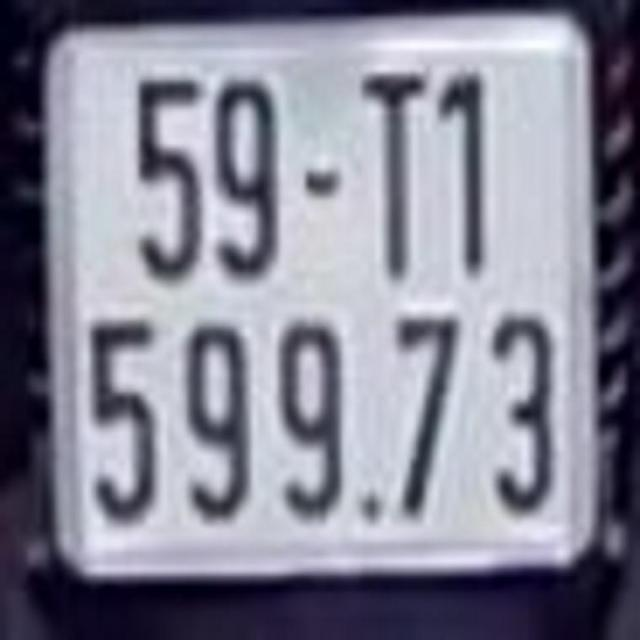1: (440, 63, 490, 276)
3: (488, 306, 558, 520)
5: (88, 321, 162, 520), (135, 72, 205, 282)
7: (391, 309, 464, 516)
9: (182, 320, 260, 525), (215, 79, 284, 276), (279, 319, 344, 523)
T: (362, 68, 441, 284)
